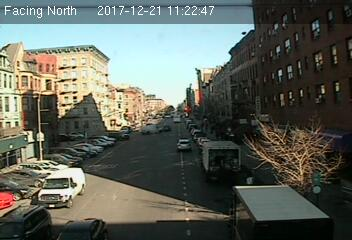car: (176, 138, 193, 151)
truck: (38, 167, 86, 208), (201, 140, 242, 182)
ups: (228, 185, 336, 240)
